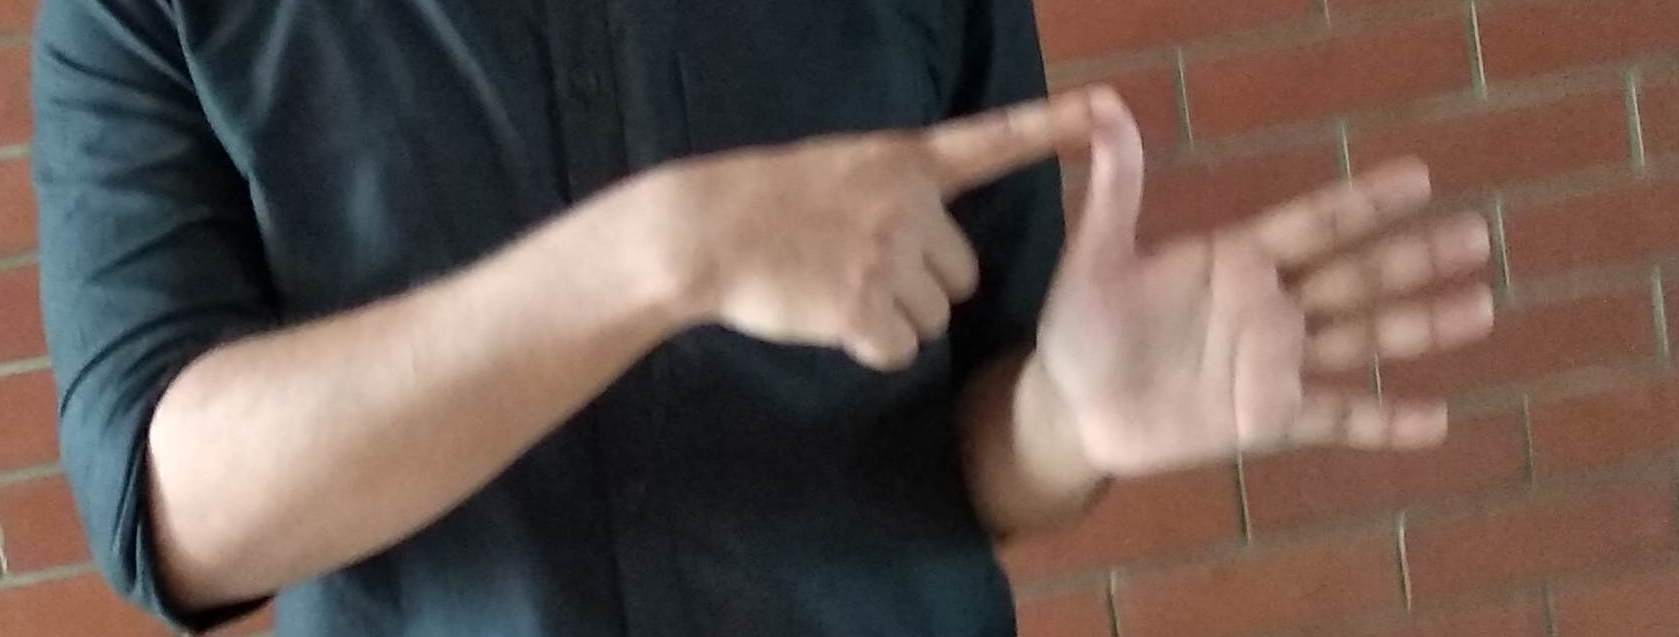a: (744, 72, 1484, 498)
